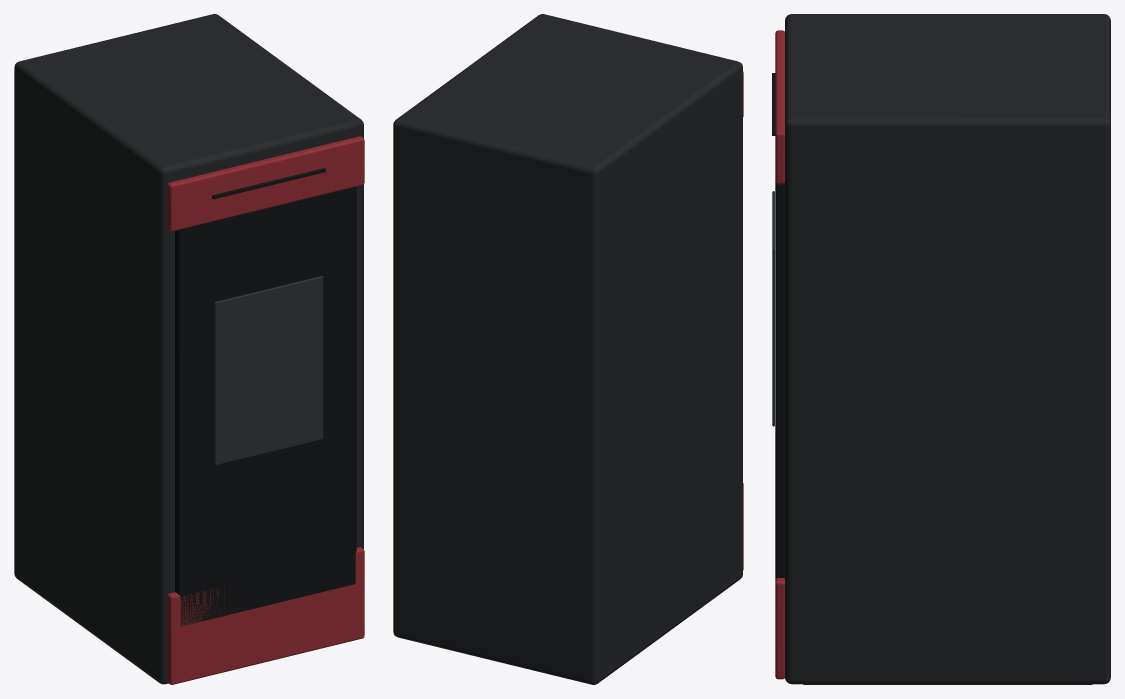
The model's file is ravelli-hrv-140-touch-bordeaux.glb.
3 renders of one model, left to right at view 1: azimuth 30°, elevation 25°; view 2: azimuth 150°, elevation 25°; view 3: azimuth 270°, elevation 25°, orthographic. The views are drawn at different scales.
Visible parts, largest first — view 1: Corpo.001, Porta.002, Vetro sportello.002, Pannello inferiore, Fascia superiore.001, Fessura.001; view 2: Corpo.001; view 3: Corpo.001, Porta.002, Fascia superiore.001, Pannello inferiore, Vetro sportello.002.
Part boxes in pixels (x1,y1,x2,y2): Corpo.001: (14,14,363,684); Porta.002: (175,186,356,626); Vetro sportello.002: (214,276,323,465); Pannello inferiore: (167,547,364,684); Fascia superiore.001: (167,136,364,231); Fessura.001: (212,168,325,199); Corpo.001: (393,14,742,684); Corpo.001: (785,14,1110,684); Porta.002: (775,182,784,578); Fascia superiore.001: (775,30,784,184); Pannello inferiore: (775,578,784,679); Vetro sportello.002: (772,191,774,426).
Bounding box in the file's own units: 0.46 × 1.12 × 0.603.
